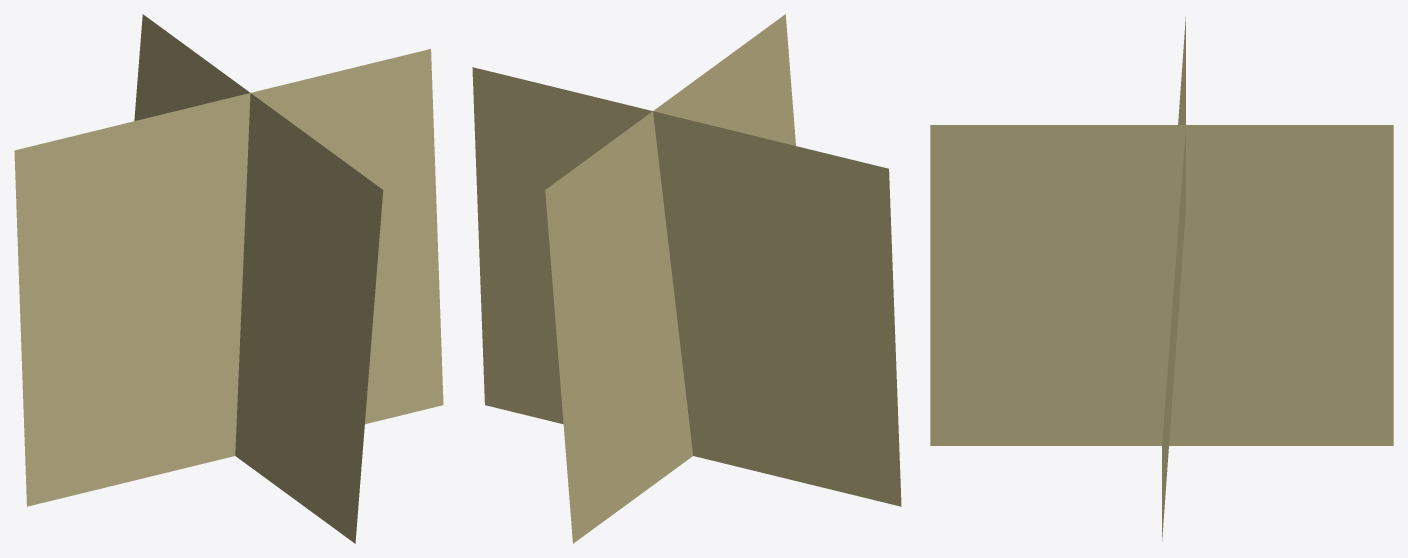
Rendered from grass-tuft-v1.lod2.glb.
3 views of the same model, side by side, from view 1: azimuth 30°, elevation 25°; view 2: azimuth 150°, elevation 25°; view 3: azimuth 270°, elevation 25° (orthographic). The views are drawn at different scales.
Parts seen in each view (by area): view 1: grass-tuft-v1.lod2; view 2: grass-tuft-v1.lod2; view 3: grass-tuft-v1.lod2.
Boxes of the visible parts, x1,y1,x2,y2 form: grass-tuft-v1.lod2: (14, 14, 443, 543); grass-tuft-v1.lod2: (472, 14, 901, 543); grass-tuft-v1.lod2: (930, 17, 1393, 541).
Size of the model in its own units: 2.7 by 2.15 by 2.7.
